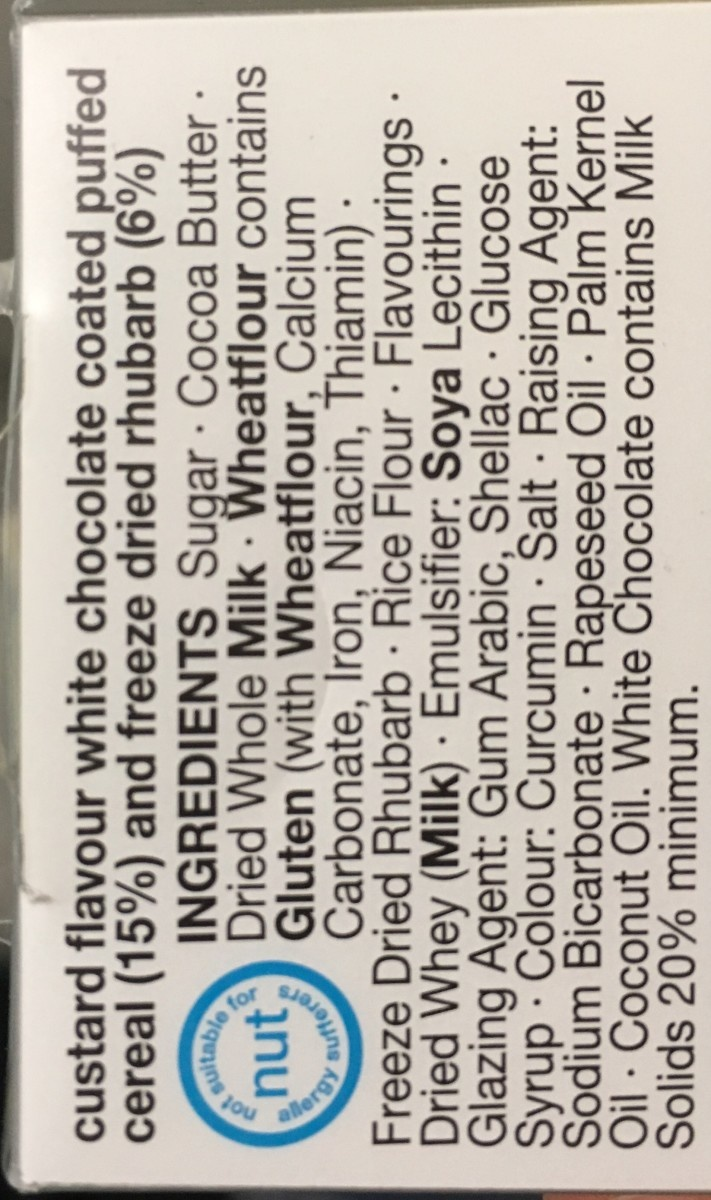ingredients: (166, 19, 707, 1156)
